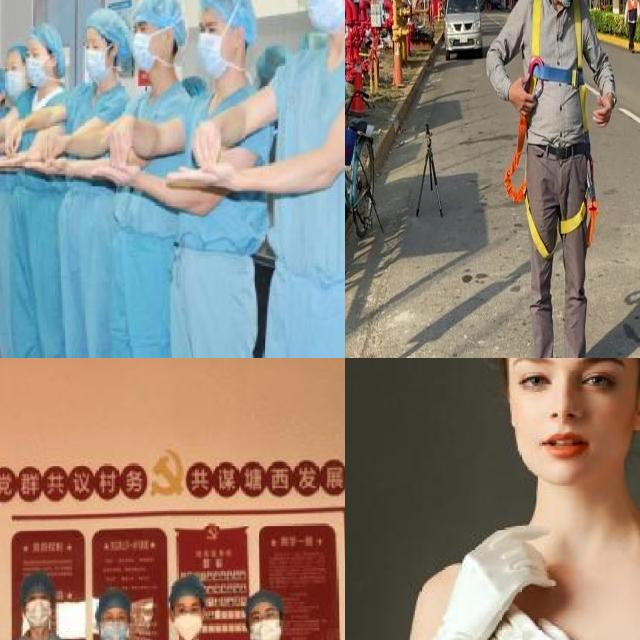Harness: (527, 0, 587, 134), (504, 114, 552, 258)
No_Ear-Protection: (628, 373, 640, 436)
No_Glasses: (503, 358, 628, 404)
face_mask: (190, 8, 238, 82), (128, 16, 168, 74), (82, 25, 115, 85), (22, 42, 52, 91), (170, 596, 202, 640), (22, 586, 52, 632), (250, 595, 279, 640), (3, 54, 30, 102), (305, 0, 345, 32), (99, 600, 130, 640)
face_nomask: (504, 358, 630, 486)
glasses: (246, 608, 287, 628)
hand_glove: (431, 522, 562, 640), (471, 602, 607, 640)
hand_noglove: (164, 160, 232, 190), (189, 119, 221, 165), (107, 120, 133, 166), (24, 156, 67, 182), (94, 162, 136, 186), (42, 132, 61, 164), (2, 128, 21, 154), (0, 154, 25, 172)
head_nohelmet: (166, 574, 207, 602), (15, 571, 59, 597), (92, 590, 132, 616), (241, 592, 283, 616)
person: (385, 358, 640, 640), (242, 0, 345, 358), (170, 0, 270, 358), (110, 0, 184, 358), (62, 17, 131, 358), (22, 25, 65, 358), (0, 38, 27, 358)
